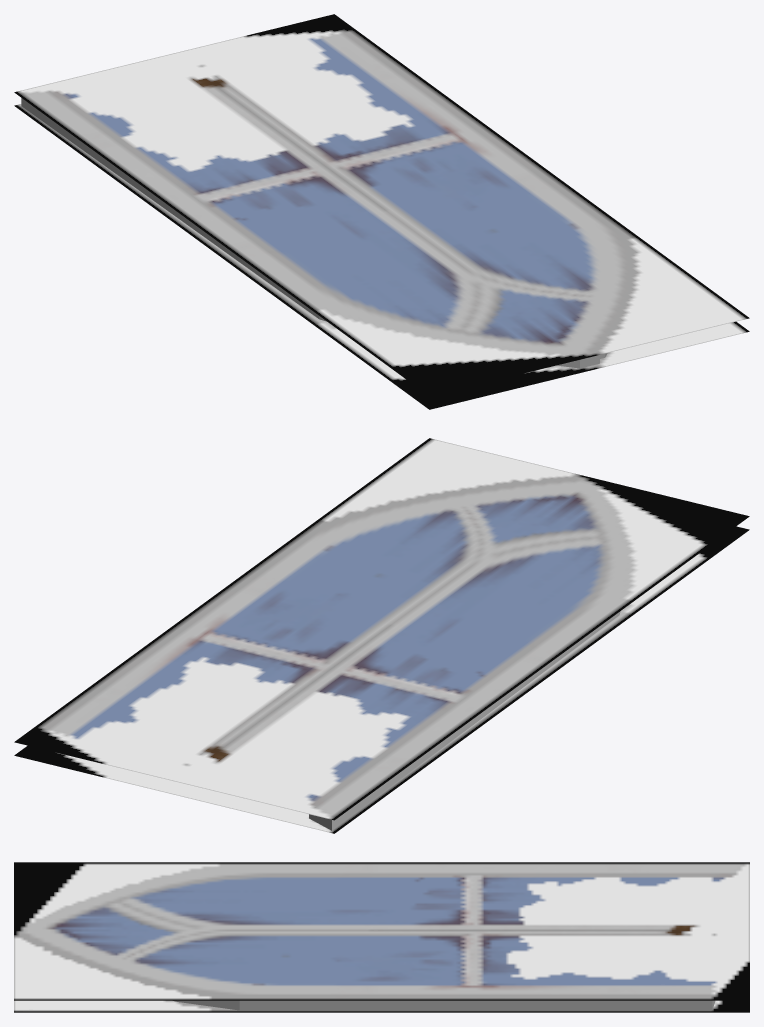
Rendered from pz_native_location_community_church_small_01_241_frame.obj.
The picture shows the model from 3 angles, top to bottom: view 1: azimuth 30°, elevation 25°; view 2: azimuth 150°, elevation 25°; view 3: azimuth 270°, elevation 25°; orthographic projection. The views are drawn at different scales.
Visible parts, largest first — view 1: pz_native_location_community_church_small_01_241_frame; view 2: pz_native_location_community_church_small_01_241_frame; view 3: pz_native_location_community_church_small_01_241_frame.
Part boxes in pixels (x1,y1,x2,y2): pz_native_location_community_church_small_01_241_frame: [14, 14, 749, 409]; pz_native_location_community_church_small_01_241_frame: [14, 438, 749, 833]; pz_native_location_community_church_small_01_241_frame: [14, 862, 749, 1012].
Bounding box in the file's own units: 1 × 0.04 × 2.25.
Materials: 1 (1 with a texture image).
